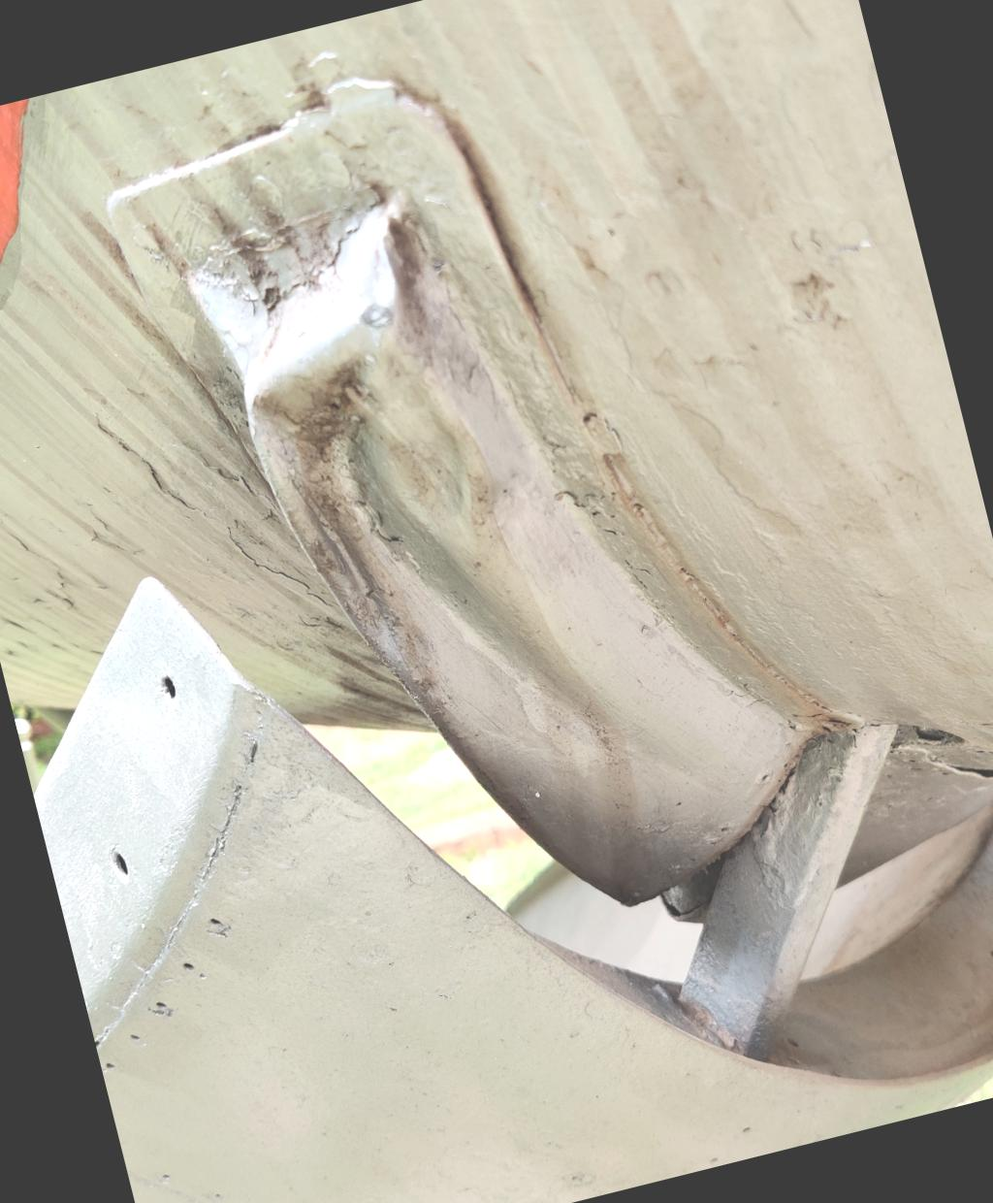dent: (177, 175, 614, 849)
